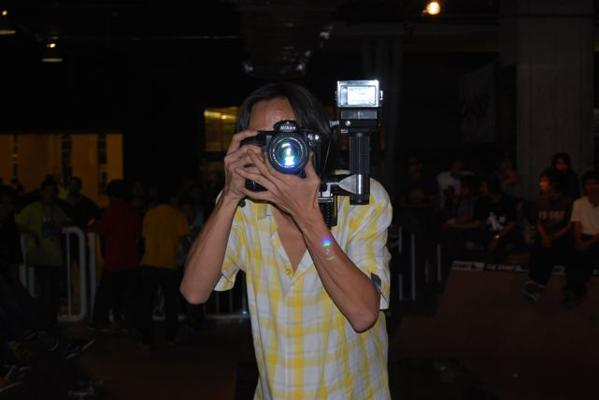person: (180, 85, 396, 399)
